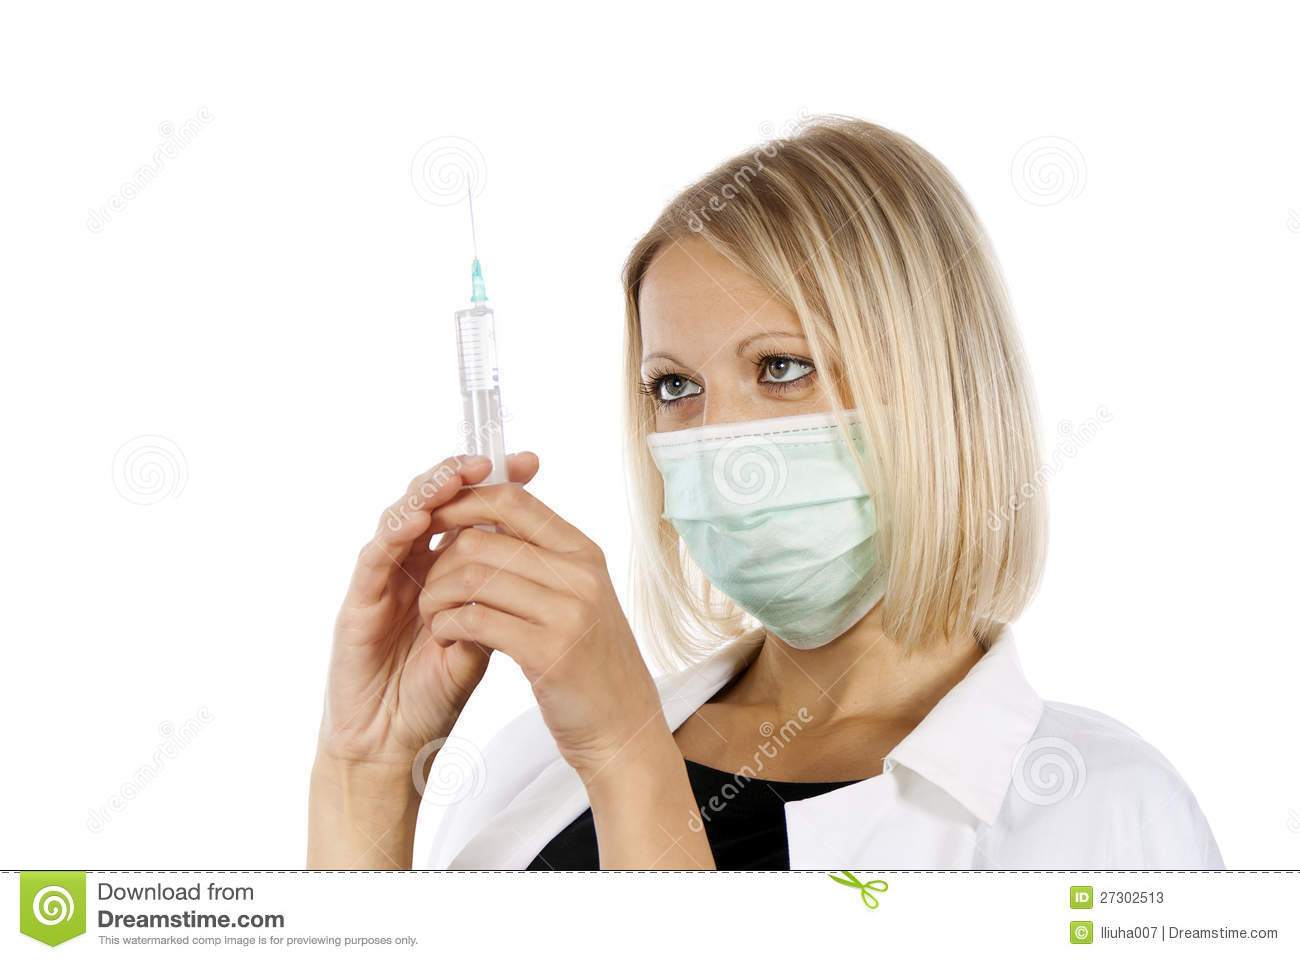mask: (653, 425, 916, 646)
